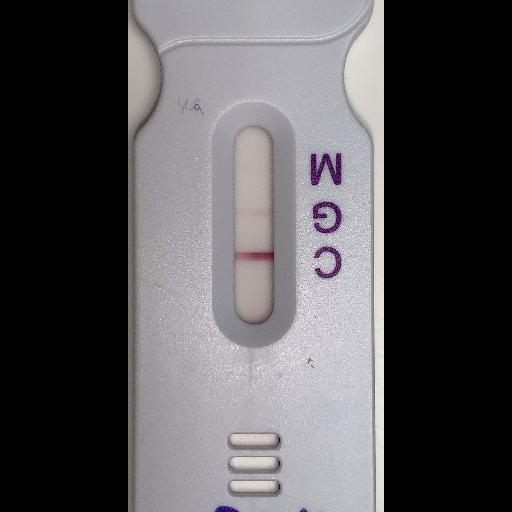Pos: (127, 0, 373, 511)
